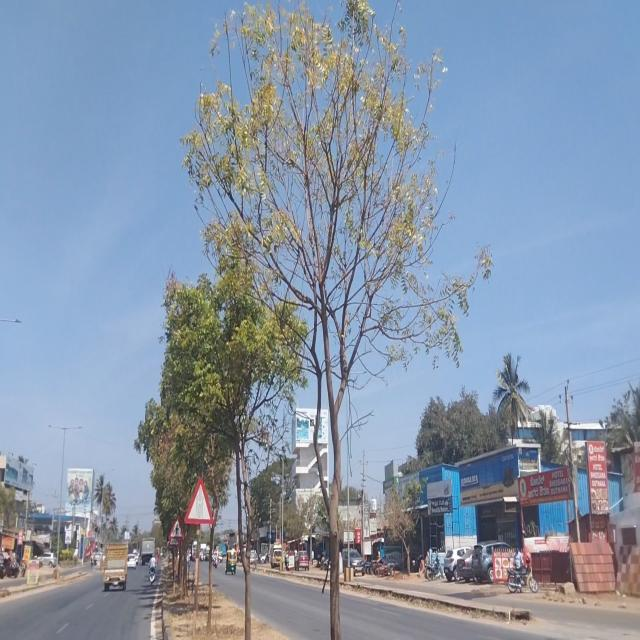bien_cam: (183, 475, 213, 526), (168, 514, 182, 541)
